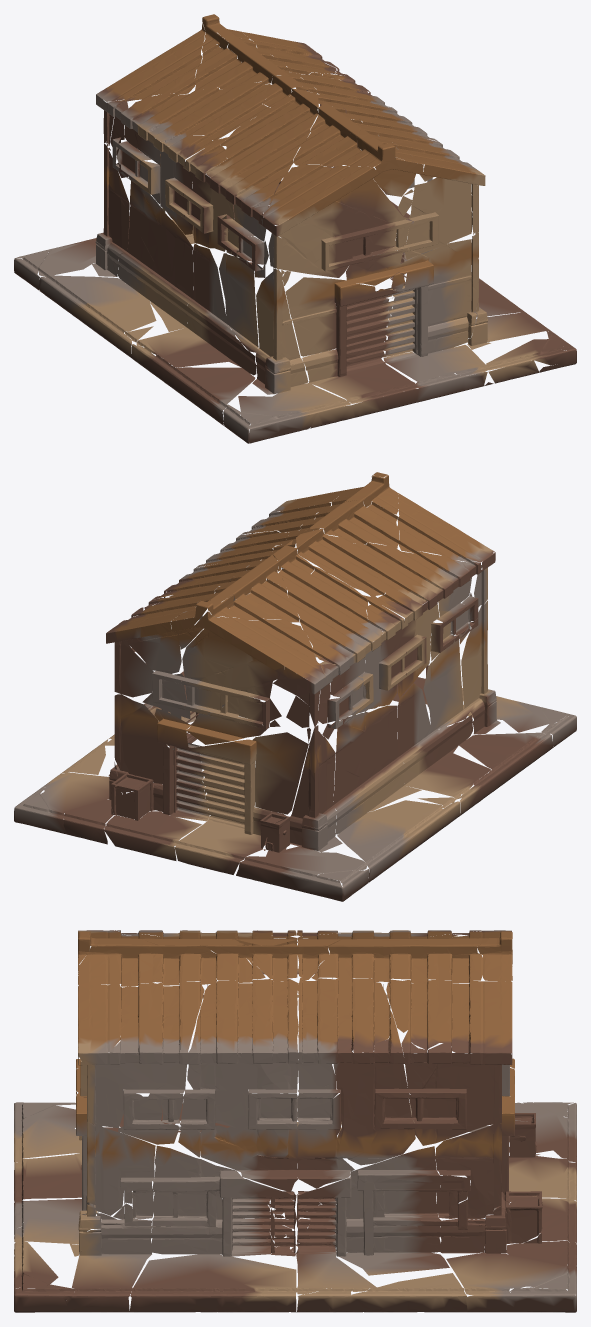
The model's file is hero-warehouse.glb.
3 views of the same model, one above another, from view 1: azimuth 30°, elevation 25°; view 2: azimuth 150°, elevation 25°; view 3: azimuth 270°, elevation 25° (orthographic). The views are drawn at different scales.
Parts seen in each view (by area): view 1: world; view 2: world; view 3: world.
Part boxes in pixels (box(x1,y1,x2,y2)): world: box(14, 14, 576, 443); world: box(14, 472, 576, 901); world: box(14, 930, 576, 1312).
Size of the model in its own units: 2.19 by 1.51 by 2.7.
